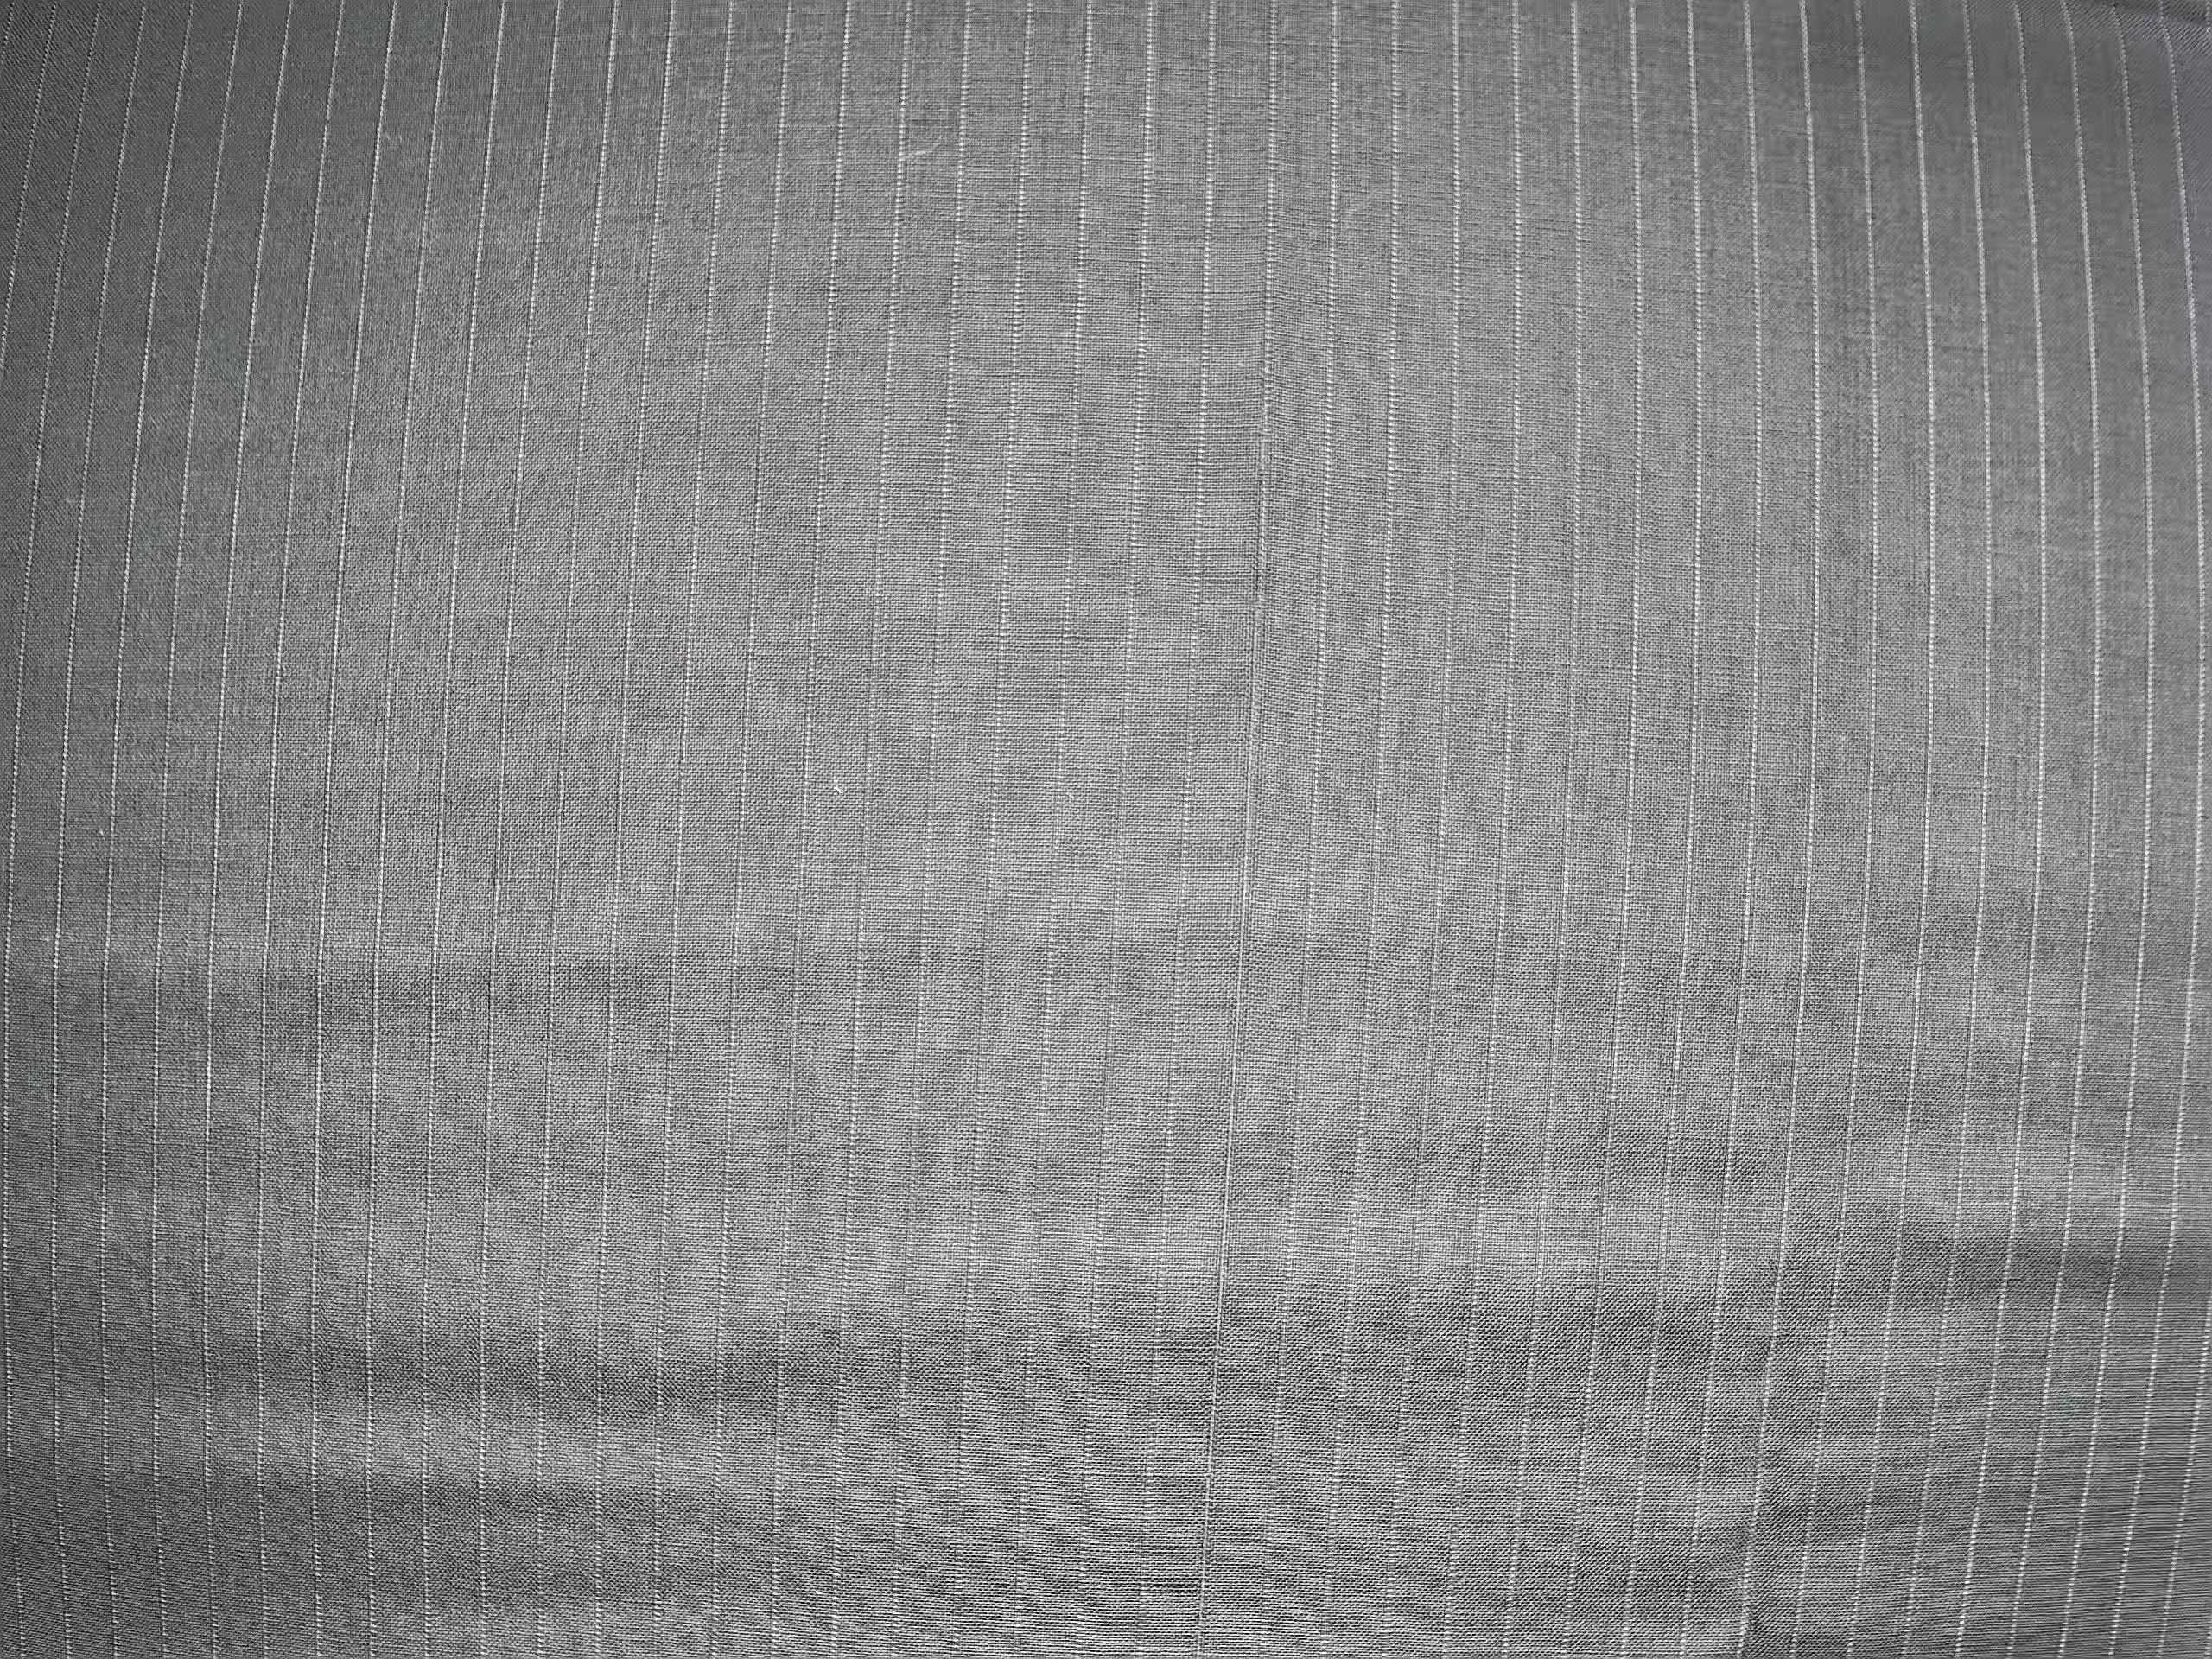lacking-warp: (1223, 84, 1303, 1140)
